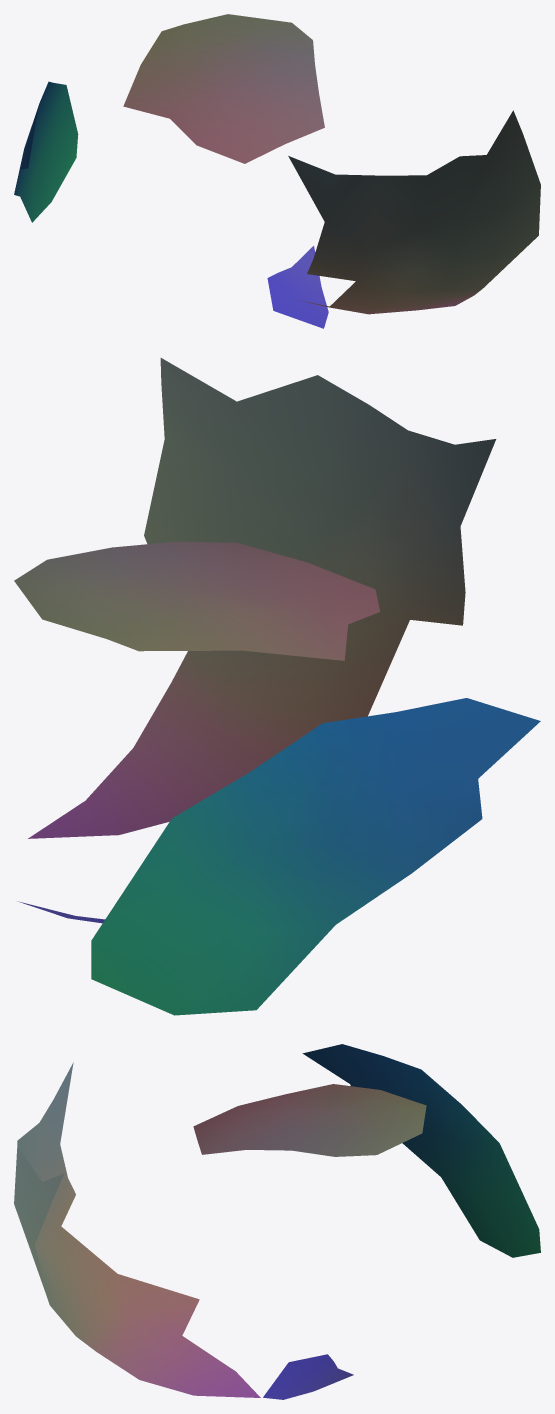
The model's file is space-nebulae-nebula_v12.fbx.
3 views of the same model, one above another, from view 1: azimuth 30°, elevation 25°; view 2: azimuth 150°, elevation 25°; view 3: azimuth 270°, elevation 25° (orthographic). The views are drawn at different scales.
Parts seen in each view (by area): view 1: Nebula_v12; view 2: Nebula_v12; view 3: Nebula_v12.
Boxes of the visible parts, box(x1,y1,x2,y2) form: Nebula_v12: box(14, 14, 540, 328); Nebula_v12: box(14, 358, 540, 1015); Nebula_v12: box(14, 1044, 540, 1399).
Bounding box in the file's own units: 0.4154 × 0.2852 × 0.5.
